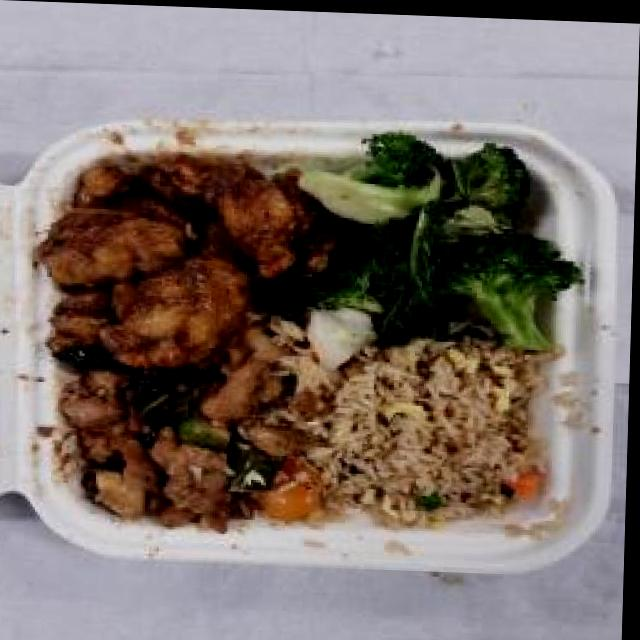Fried Rice: (288, 327, 561, 530)
Kung Pao Chicken: (38, 336, 350, 540)
Super Greens: (302, 126, 590, 362)
The Original Orange Chicken: (23, 136, 327, 380)
